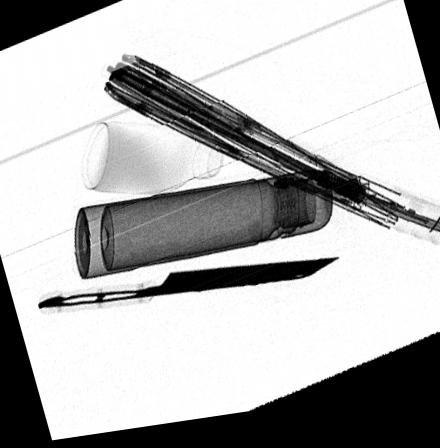Knife: (38, 267, 340, 311)
